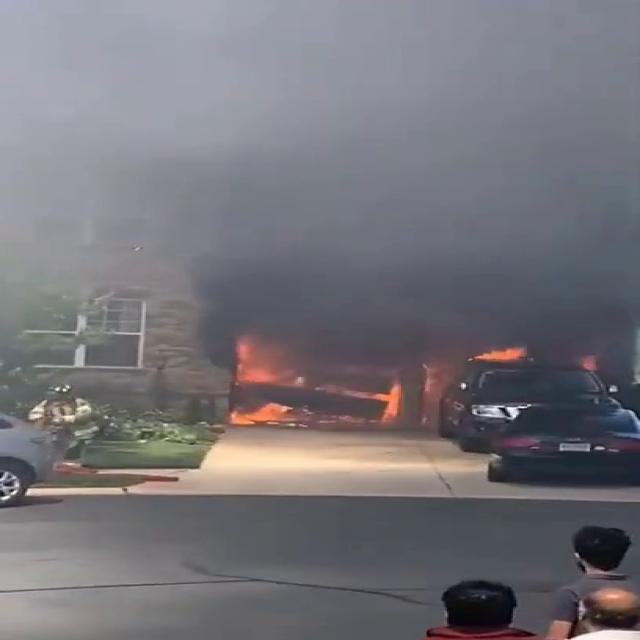Fire: (224, 346, 344, 426)
Smoke: (1, 1, 634, 412), (4, 498, 422, 640)
